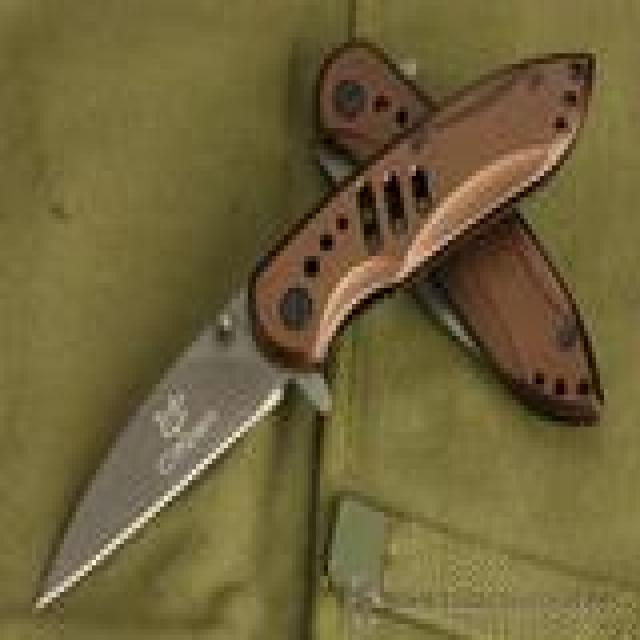Knife: (17, 43, 603, 615)
